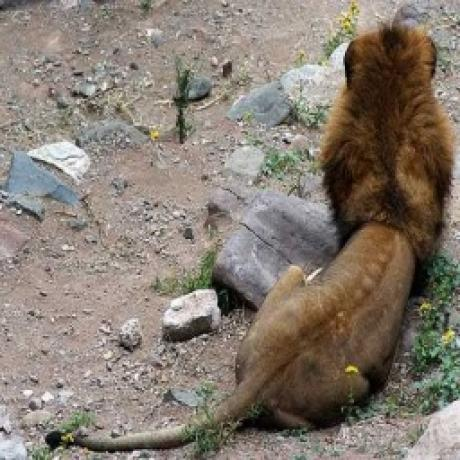Lion: (42, 21, 455, 456)
